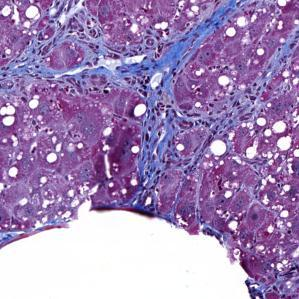fibrosis: (87, 44, 179, 90)
